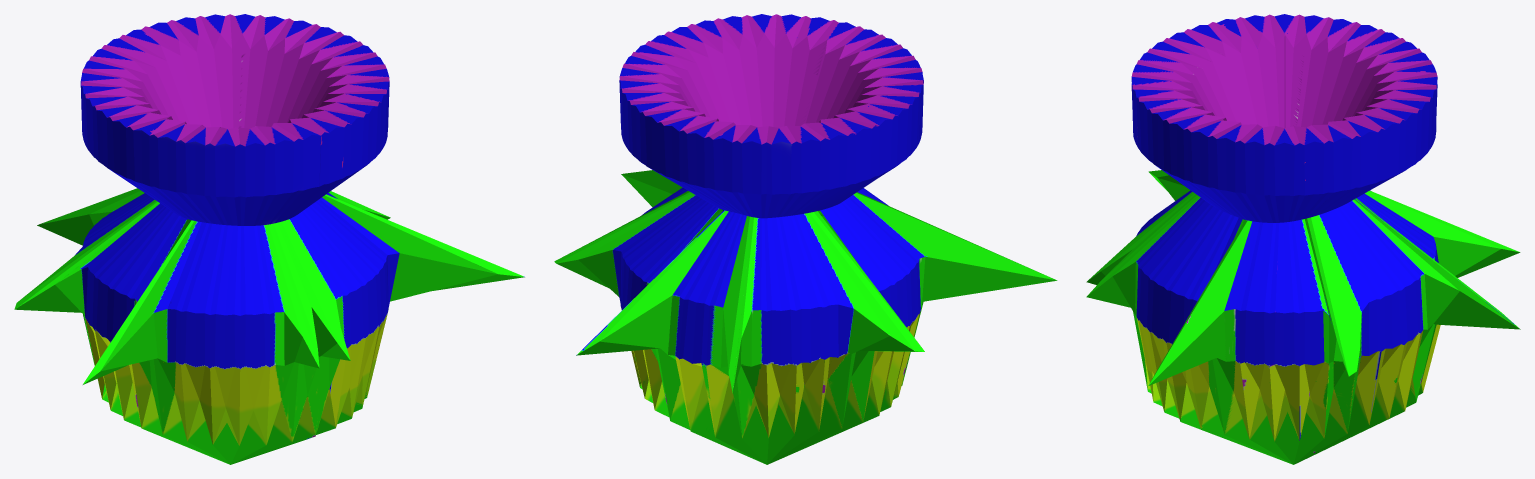
Rendered from flower2.fbx.
The picture shows the model from 3 angles, left to right: view 1: azimuth 30°, elevation 25°; view 2: azimuth 150°, elevation 25°; view 3: azimuth 270°, elevation 25°; orthographic projection.
Visible parts, largest first — view 1: Cylinder; view 2: Cylinder; view 3: Cylinder.
Boxes of the visible parts, x1,y1,x2,y2 form: Cylinder: [14, 14, 524, 464]; Cylinder: [554, 14, 1057, 464]; Cylinder: [1086, 14, 1520, 464].
Size of the model in its own units: 3.7 by 3.11 by 3.17.
